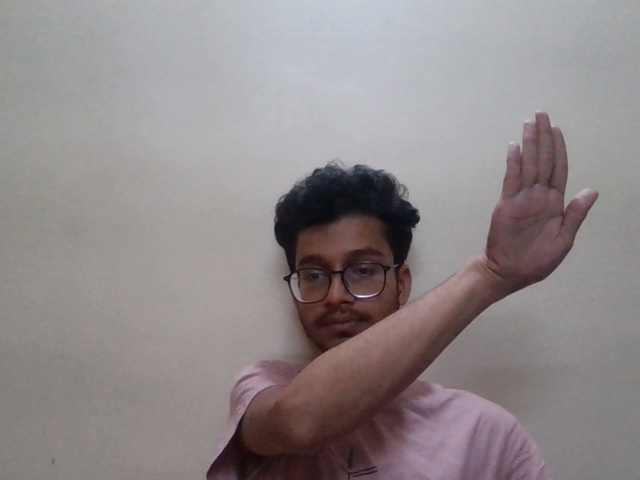hello: (475, 109, 601, 309)
